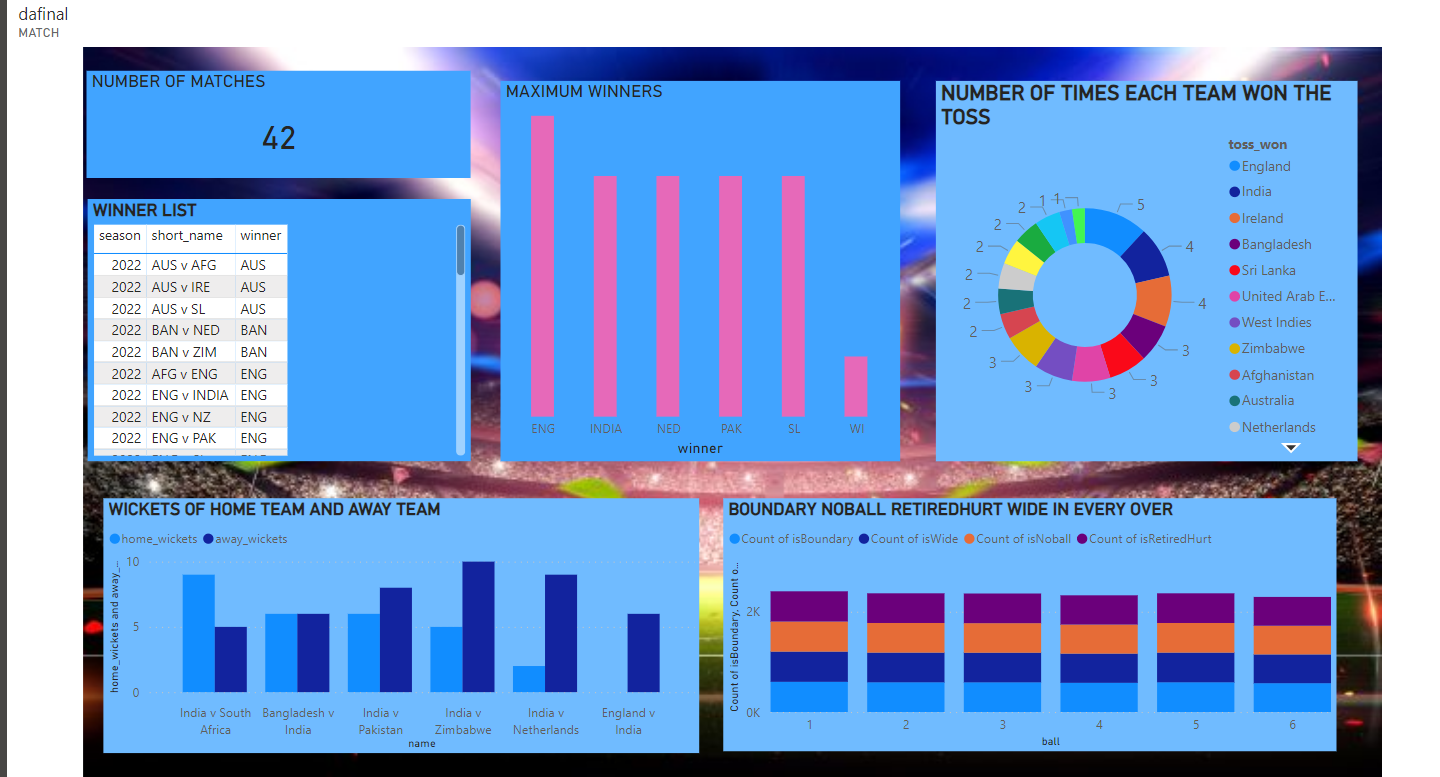

Layout of this report page (visuals, bound fields, positions):
{"tool":"powerbi","page":{"name":"Page 4","canvas":[1280,720],"ordinal":3},"visuals":[{"type":"card","title":"NUMBER OF MATCHES","fields":{"Values":["Count(summary.short_name)"]},"box":[27.5,33,215.6,96.1],"z":0},{"type":"tableEx","title":"WINNER LIST","fields":{"Values":["summary.season","summary.short_name","summary.winner"]},"box":[27.5,141.5,237.6,254.1],"z":1000},{"type":"ribbonChart","title":"MAXIMUM WINNERS   ","fields":{"Category":["summary.winner"],"Y":["CountNonNull(summary.winner)"]},"box":[280.2,141.5,347.5,254.1],"z":2000},{"type":"donutChart","title":"NUMBER OF TIMES EACH TEAM WON THE TOSS","fields":{"Category":["summary.toss_won"],"Y":["CountNonNull(summary.toss_won)"]},"box":[655.1,141.5,304.9,254.1],"z":3000},{"type":"columnChart","title":"BOUNDARY NOBALL RETIREDHURT WIDE IN EVERY OVER","fields":{"Category":["details.ball"],"Y":["CountNonNull(details.isBoundary)","CountNonNull(details.isWide)","CountNonNull(details.isNoball)","CountNonNull(details.isRetiredHurt)"]},"box":[280.2,409.3,347.5,226.6],"z":4000},{"type":"clusteredColumnChart","title":"WICKETS OF HOME TEAM AND AWAY TEAM","fields":{"Category":["summary.name"],"Y":["Sum(summary.home_wickets)","Sum(summary.away_wickets)"]},"box":[27,409,238,227],"z":5000}]}

Visuals, with their boxes on the page's 1280x720 design canvas (x1, y1, x2, y2). These are canvas units, not pixel positions in the 1440x777 screenshot, which may show the page scaled, cropped or inside an application window:
"NUMBER OF MATCHES" card: (28, 33, 243, 129)
"WINNER LIST" tableEx: (28, 142, 265, 396)
"MAXIMUM WINNERS   " ribbonChart: (280, 142, 628, 396)
"NUMBER OF TIMES EACH TEAM WON THE TOSS" donutChart: (655, 142, 960, 396)
"BOUNDARY NOBALL RETIREDHURT WIDE IN EVERY OVER" columnChart: (280, 409, 628, 636)
"WICKETS OF HOME TEAM AND AWAY TEAM" clusteredColumnChart: (27, 409, 265, 636)
